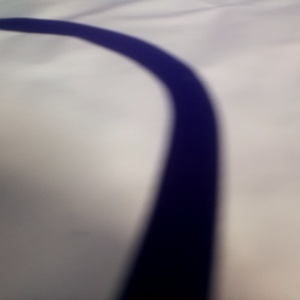bottom_left: (97, 26, 180, 64)
top_right: (133, 1, 205, 26)
